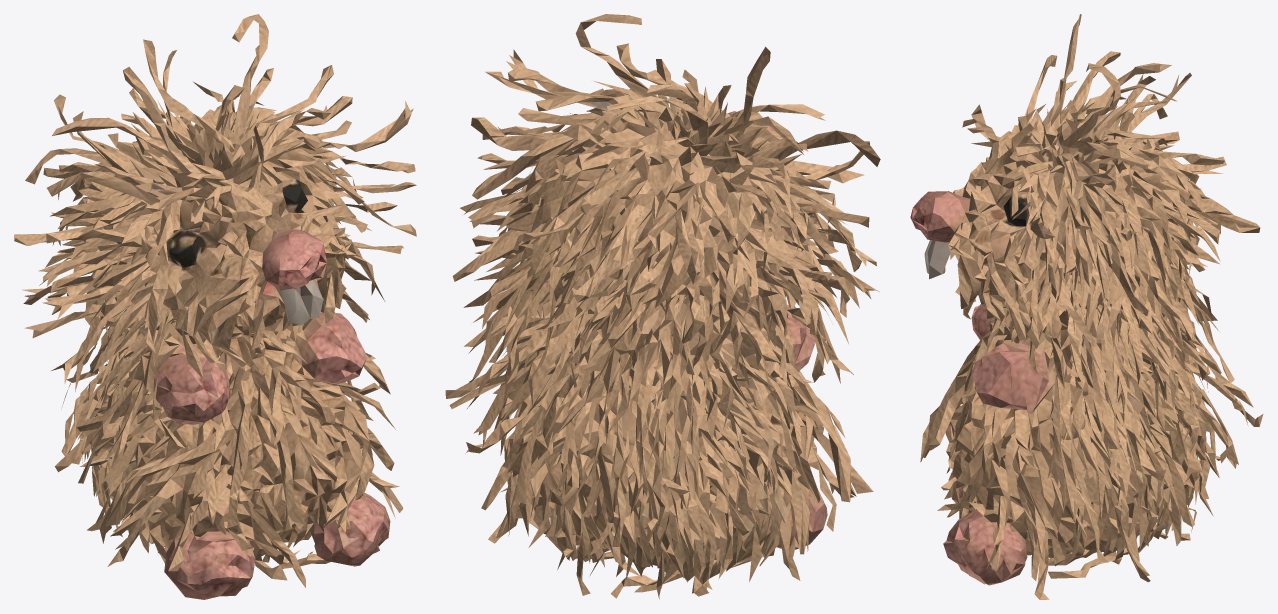
The model's file is bust.glb.
3 renders of one model, left to right at view 1: azimuth 30°, elevation 25°; view 2: azimuth 150°, elevation 25°; view 3: azimuth 270°, elevation 25°, orthographic. The views are drawn at different scales.
Bounding box in the file's own units: 1.44 × 1.9 × 1.23.
Materials: 1 (1 with a texture image).
